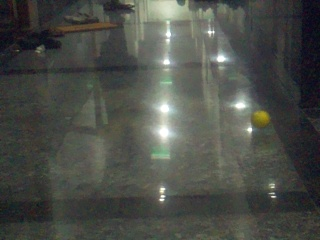ball: (251, 111, 270, 127)
